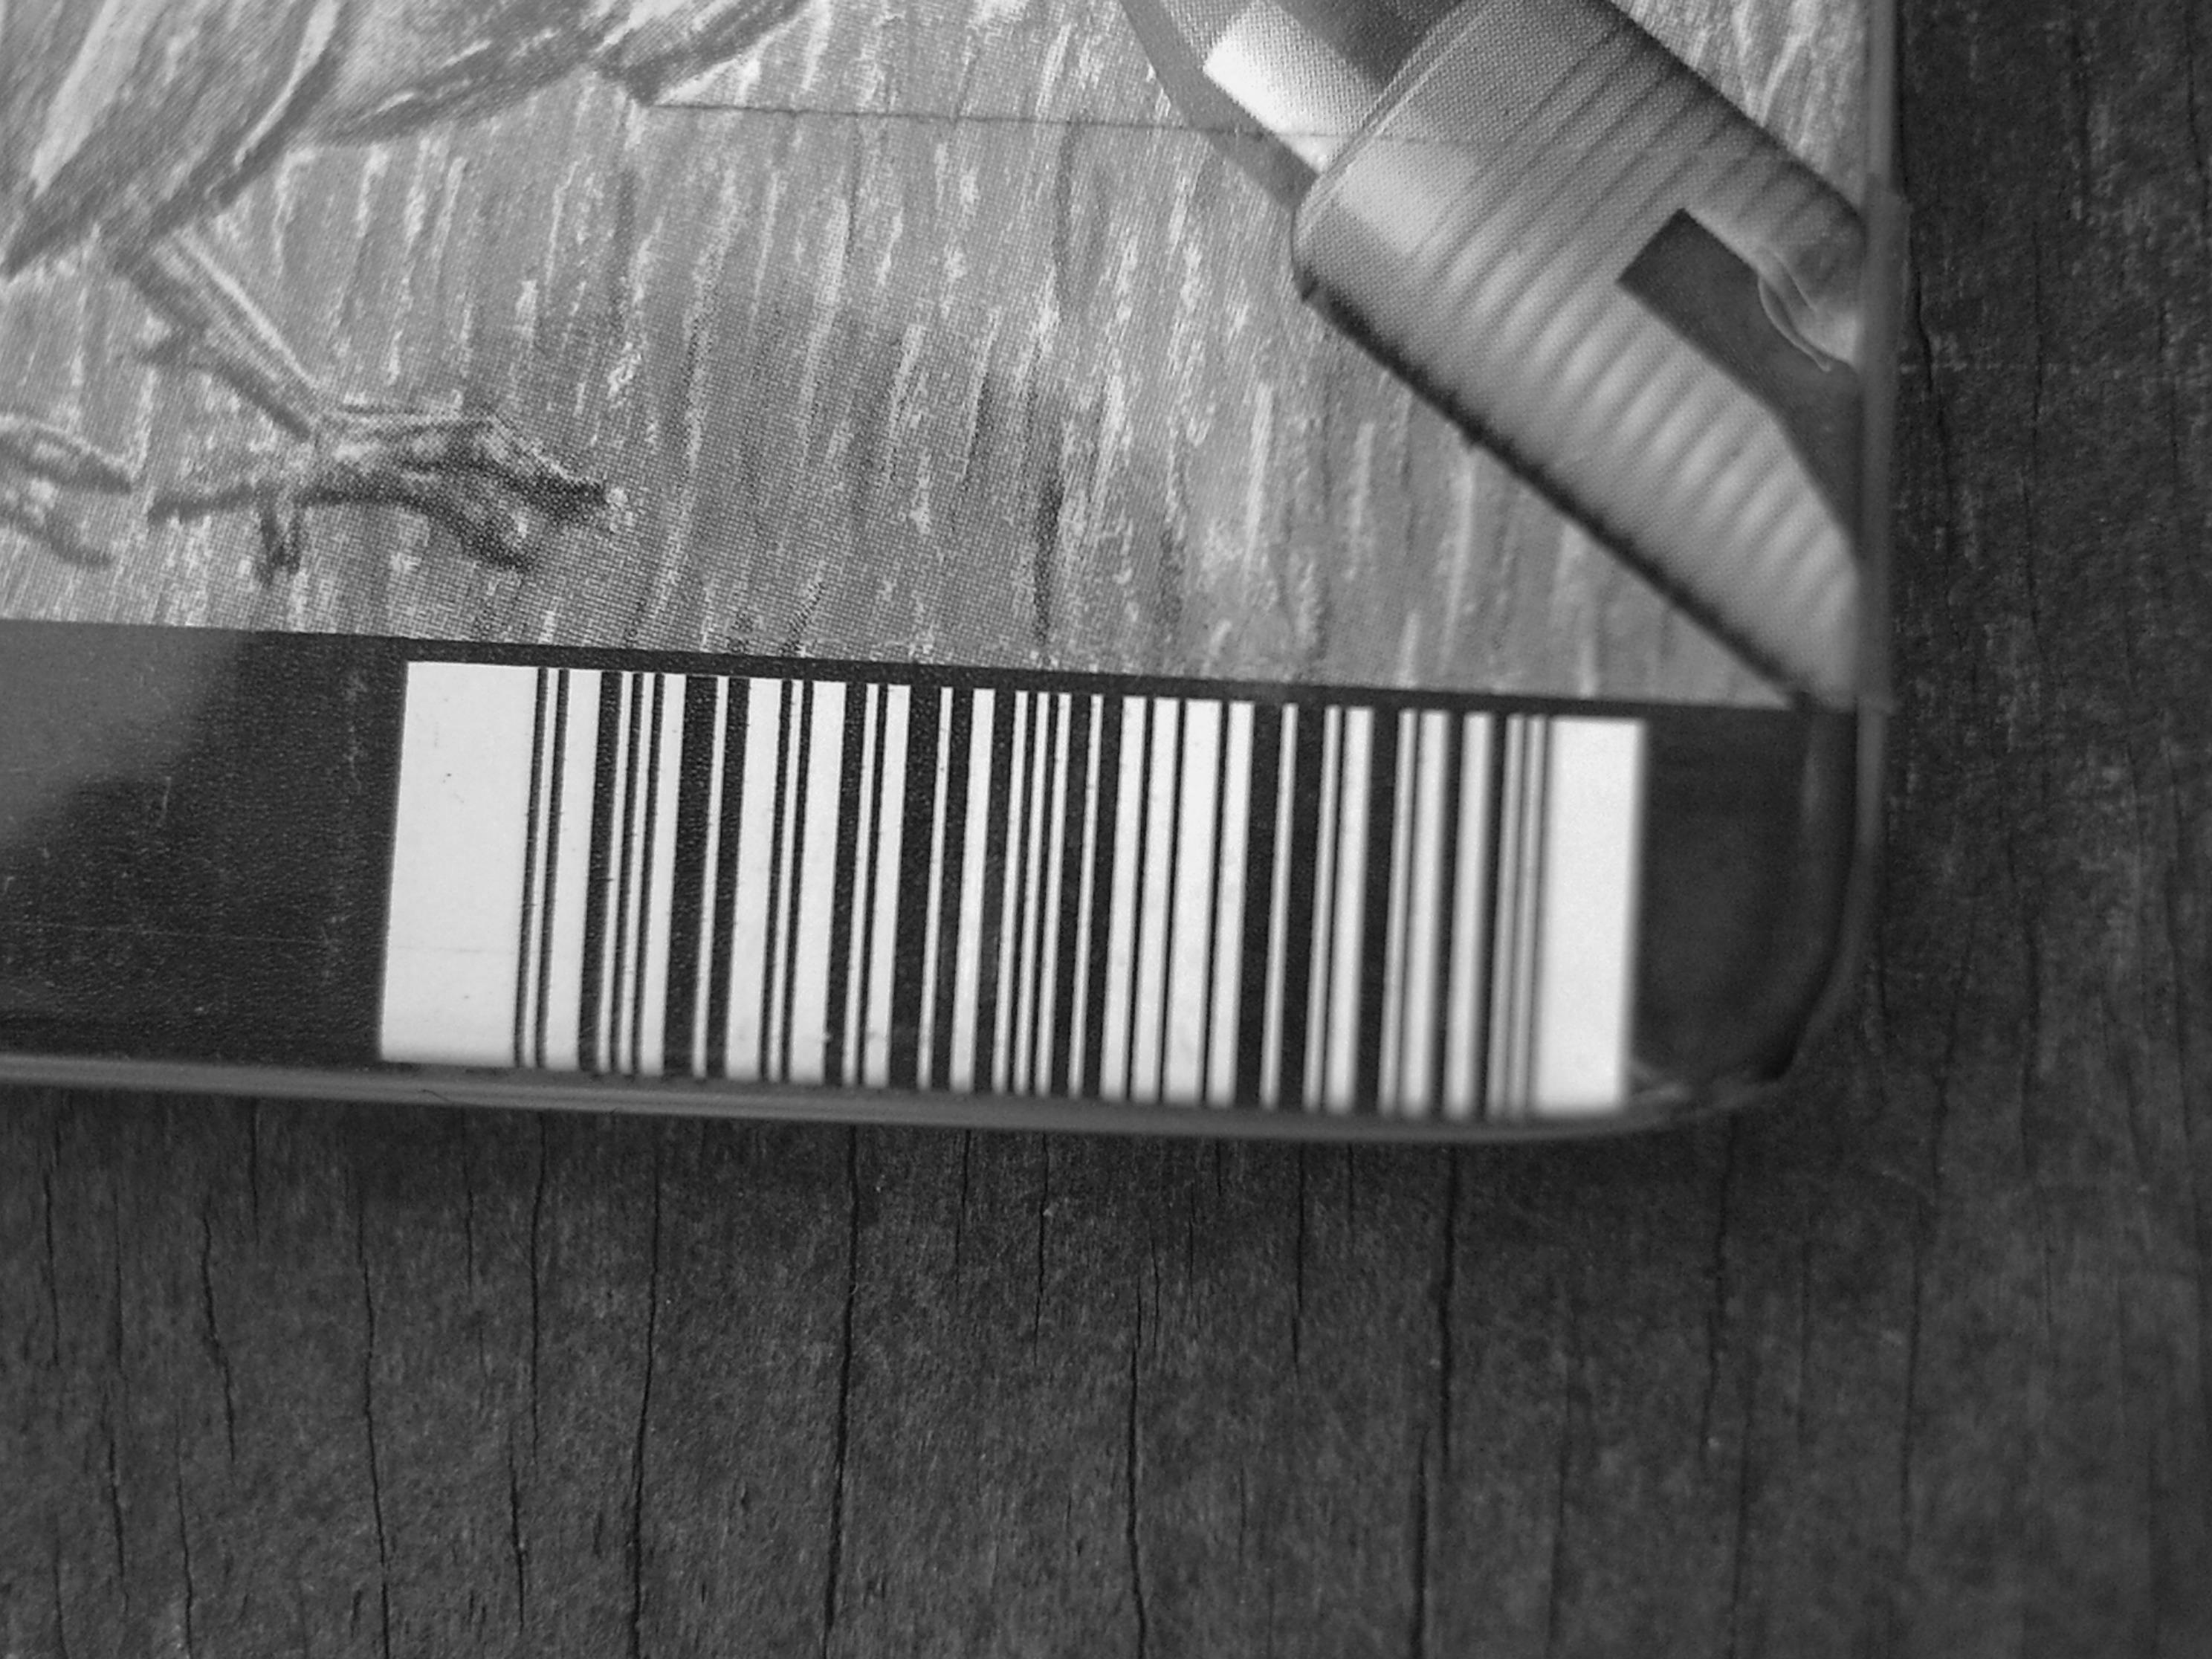Barcode: (385, 701, 1639, 1101)
